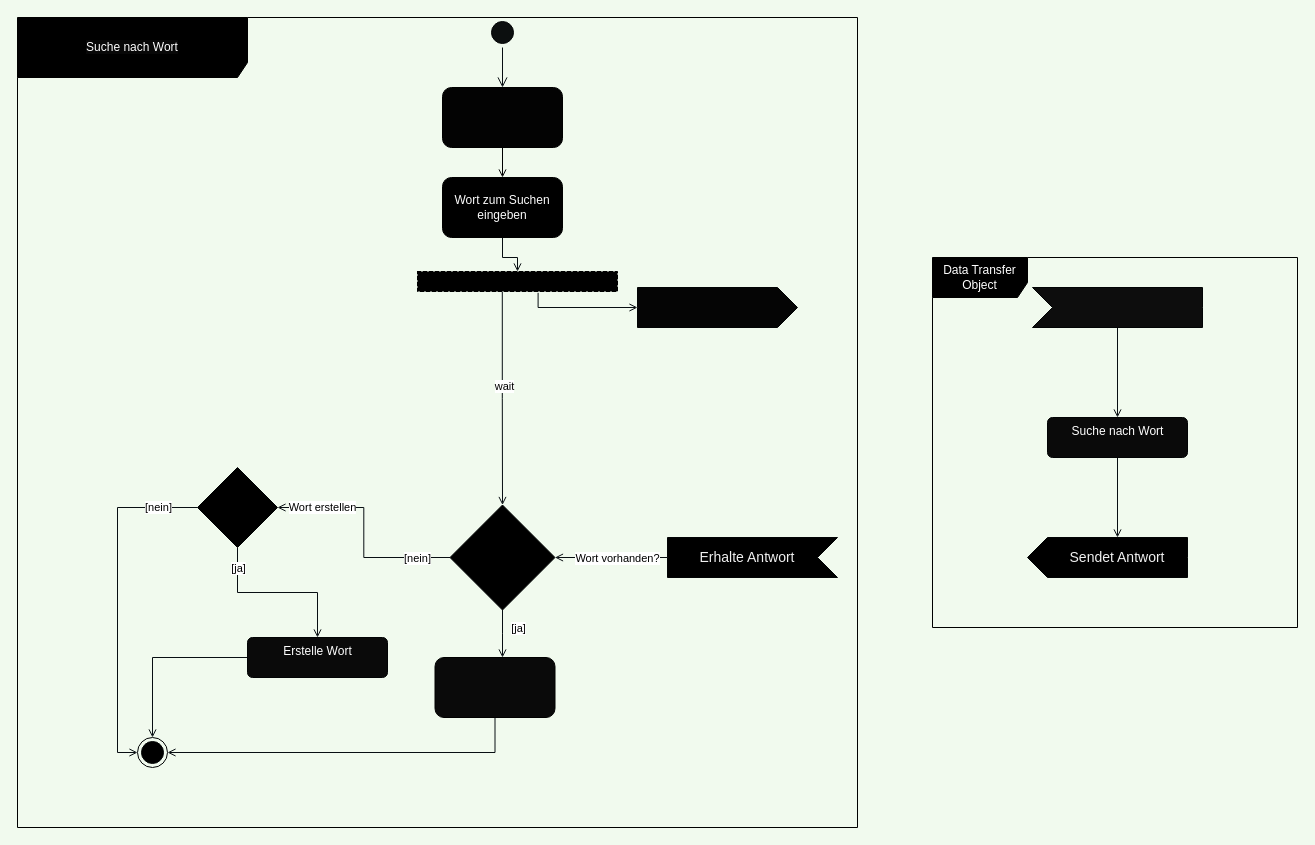
Image size: 1315x845. Some labels were removed from this diagram. Each missing label, with the centre of its shape:
"Erhalte Eingabe" belongs at [1117,307].
"Sende Eingabe" belongs at [717,307].
"Suche nach Wort Befehl eingeben" belongs at [502,117].
"Wort lesen" belongs at [494,687].
